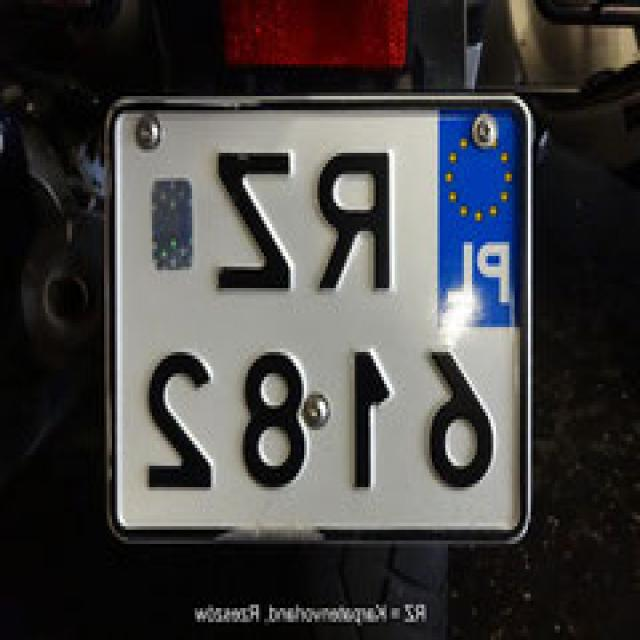pl_license_plate: (120, 107, 523, 526)
